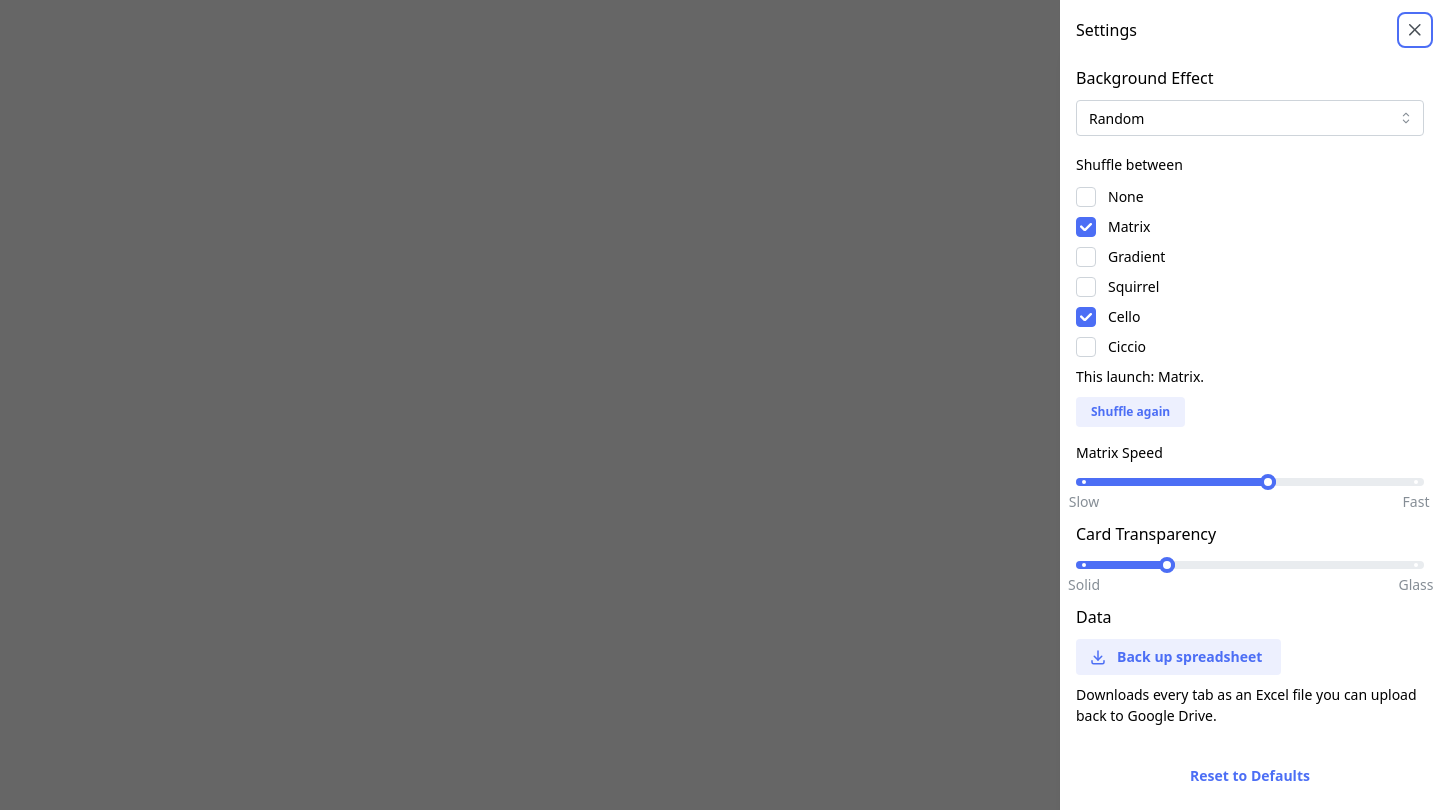
Test case: choosing what a random background shuffles between › rolls again when asked to, without waiting for the next launch
(page scrolled)
Check: the text "This launch: Matrix." is shown, box [1076,367,1204,386]
Click the button "Shuffle again". click: click(1131, 412)
box: [1076,398,1185,428]
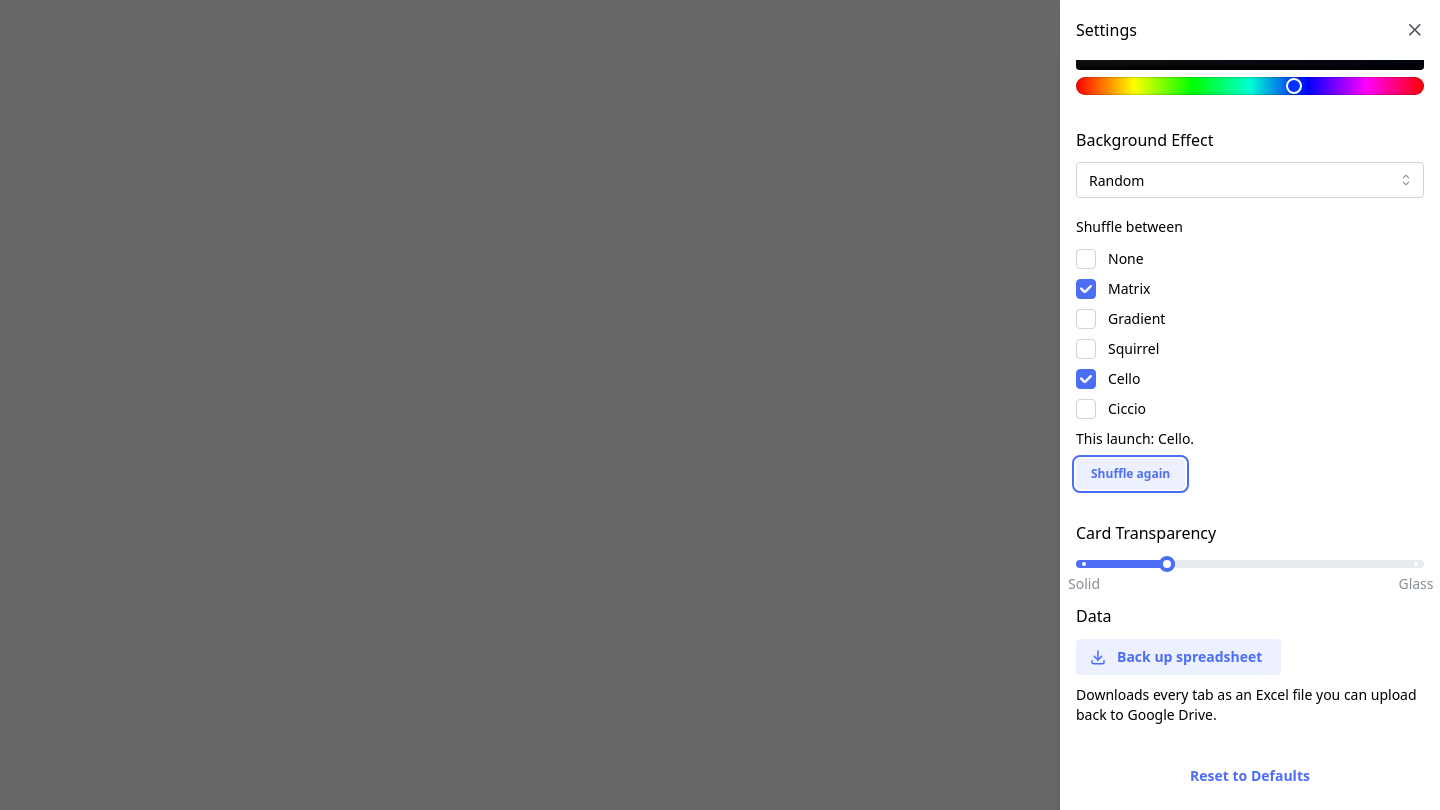
Check: the text "This launch: Cello." is shown, box [1076,429,1194,448]
